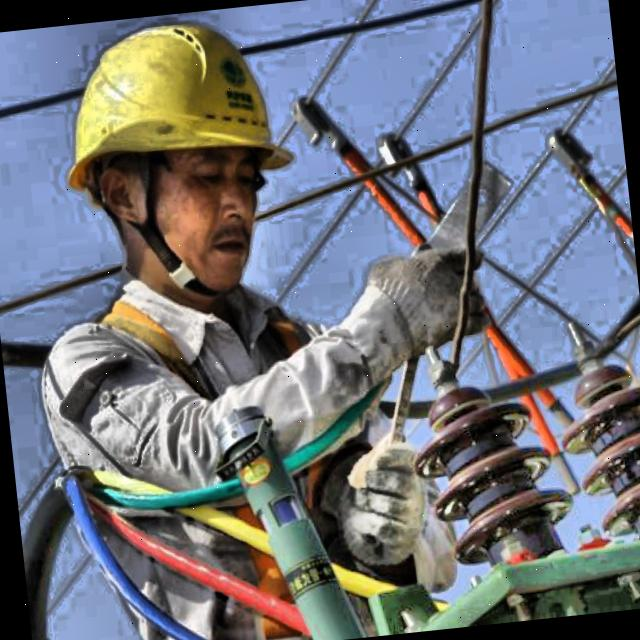helmet: (36, 3, 318, 315)
